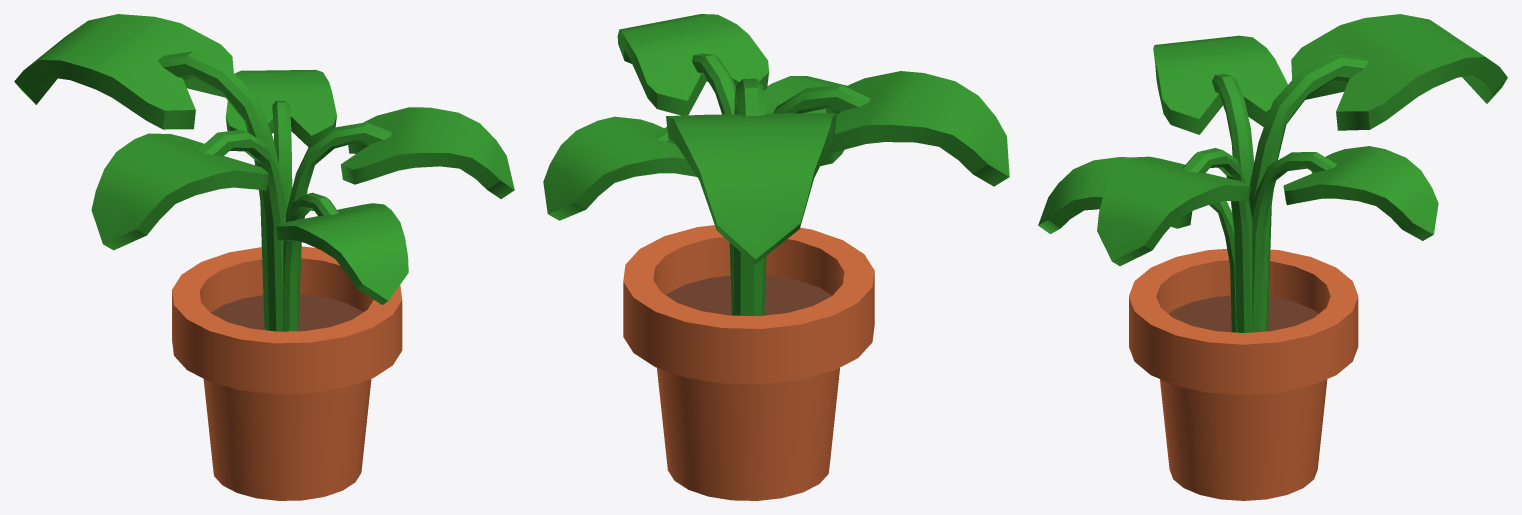
The model's file is plant.fbx.
3 views of the same model, side by side, from view 1: azimuth 30°, elevation 25°; view 2: azimuth 150°, elevation 25°; view 3: azimuth 270°, elevation 25° (orthographic). The views are drawn at different scales.
Parts seen in each view (by area): view 1: pCube9; view 2: pCube9; view 3: pCube9.
Part boxes in pixels (x1,y1,x2,y2): pCube9: (14, 14, 514, 500); pCube9: (543, 14, 1009, 500); pCube9: (1038, 14, 1507, 500).
Size of the model in its own units: 12.85 by 12.67 by 13.83.
